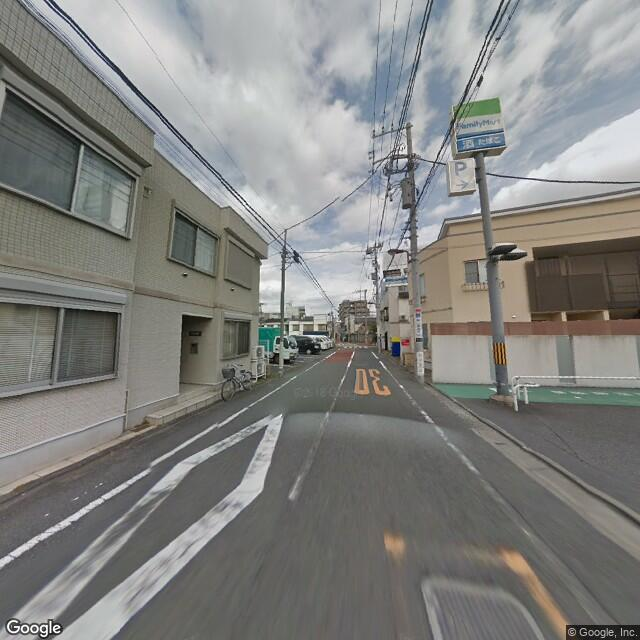family_mart: (451, 95, 504, 143)
